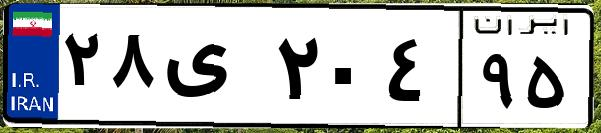0: (330, 28, 385, 110)
2: (270, 28, 330, 110), (57, 26, 110, 100)
4: (385, 28, 445, 110)
5: (525, 38, 570, 115)
8: (110, 28, 158, 98)
9: (475, 38, 525, 113)
ی: (158, 20, 270, 120)
